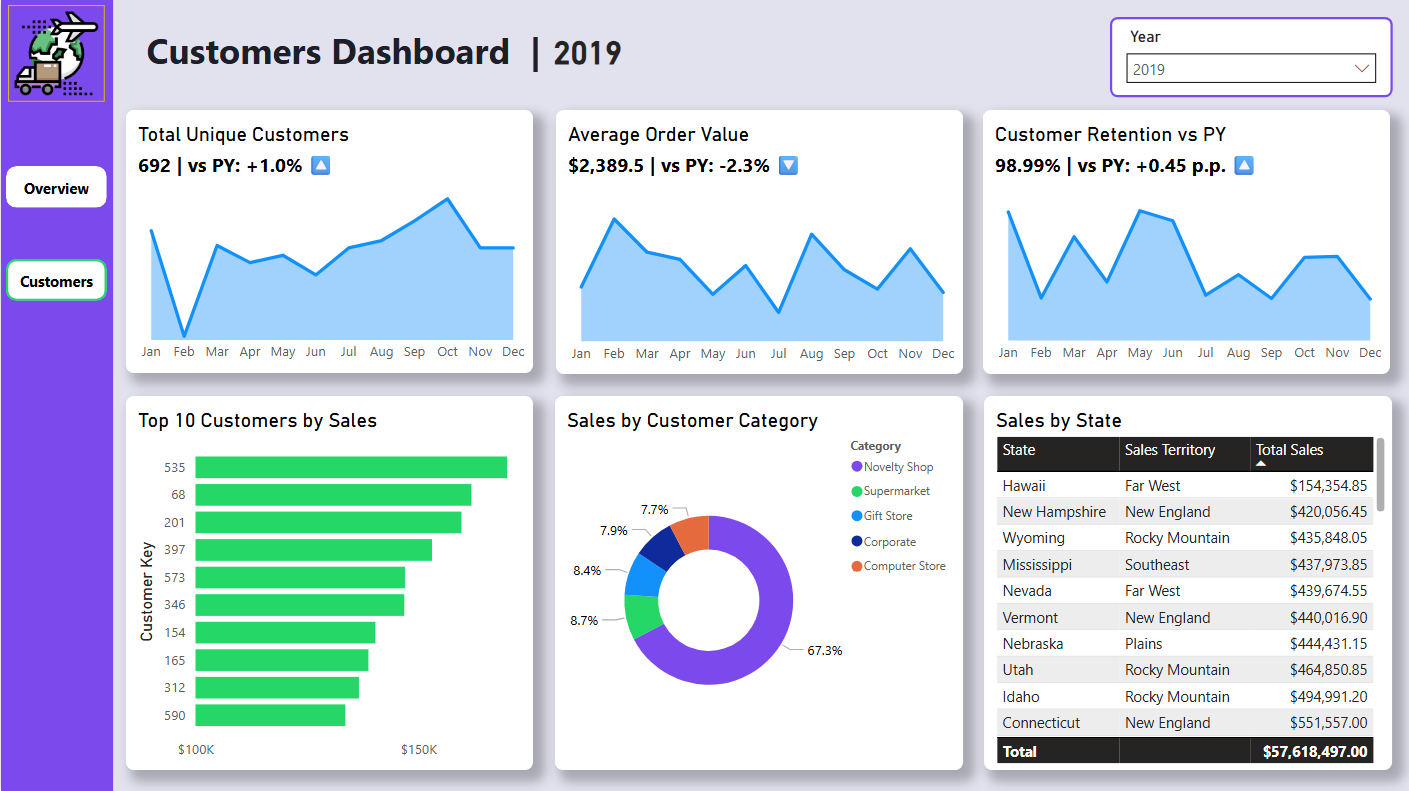

Layout of this report page (visuals, bound fields, positions):
{"tool":"powerbi","page":{"name":"Customers","canvas":[1280,720],"ordinal":1},"visuals":[{"type":"areaChart","title":"Total Unique Customers","fields":{"Category":["DimDate.MonthNameAbr"],"Y":["Count(FactSales.CustomerKey)"]},"box":[114,99.9,370,239],"z":0},{"type":"shape","box":[0,0,102.3,719.7],"z":1000},{"type":"textbox","box":[127.3,17.8,385.4,65.4],"z":2000},{"type":"slicer","fields":{"Values":["DimDateFilter.Year"]},"box":[1007.9,15.5,256.6,73.3],"z":3000},{"type":"areaChart","title":"Average Order Value","fields":{"Category":["DimDate.MonthNameAbr"],"Y":["Calculations.AverageOrderValue"]},"box":[504.2,99.9,370,240.3],"z":4000},{"type":"areaChart","title":"Customer Retention vs PY","fields":{"Y":["Calculations.RepeatCustomerRate"],"Category":["DimDate.MonthNameAbr"]},"box":[892.8,100.1,370,239.6],"z":5000},{"type":"cardVisual","fields":{"Data":["Calculations.SelectedYear"]},"box":[490.2,11.1,162.2,58.2],"z":6000},{"type":"tableEx","title":"Sales by State","fields":{"Values":["DimCustomersSCD.StateProvinceName","DimCustomersSCD.SalesTerritory","Calculations.TotalSales"]},"box":[893.9,359.9,370.6,340.4],"z":7000},{"type":"clusteredBarChart","title":"Top 10 Customers by Sales","fields":{"Category":["DimCustomersSCD.CustomerKey"],"Y":["Calculations.TotalSales"]},"box":[113.8,359.9,369.6,340.4],"z":8000},{"type":"donutChart","title":"Sales by Customer Category","fields":{"Category":["DimCustomersSCD.CustomerCategoryName"],"Y":["Calculations.TotalSales"]},"box":[503.8,359.9,370.6,340.4],"z":9000},{"type":"image","box":[5.9,4.8,88,88],"z":10000},{"type":"shape","box":[4.5,151.1,91.6,38.1],"z":11000},{"type":"shape","box":[4.5,235.5,91.6,38.1],"z":12000}]}

Visuals, with their boxes in screenshot pixels (x1, y1, x2, y2), scaled from the page's 1280x720 canvas onto the 1409x791 screenshot:
"Total Unique Customers" areaChart: [125,110,533,372]
shape: [0,0,113,790]
textbox: [140,20,564,91]
slicer - DimDateFilter.Year: [1109,17,1392,98]
"Average Order Value" areaChart: [555,110,962,374]
"Customer Retention vs PY" areaChart: [983,110,1390,373]
cardVisual - Calculations.SelectedYear: [540,12,718,76]
"Sales by State" tableEx: [984,395,1392,769]
"Top 10 Customers by Sales" clusteredBarChart: [125,395,532,769]
"Sales by Customer Category" donutChart: [555,395,963,769]
image: [6,5,103,102]
shape: [5,166,106,208]
shape: [5,259,106,301]
